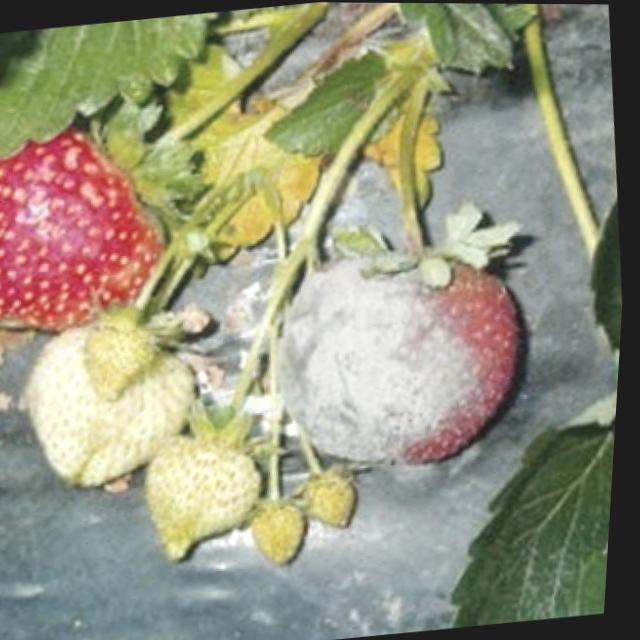Gray Mold: (274, 230, 521, 462)
